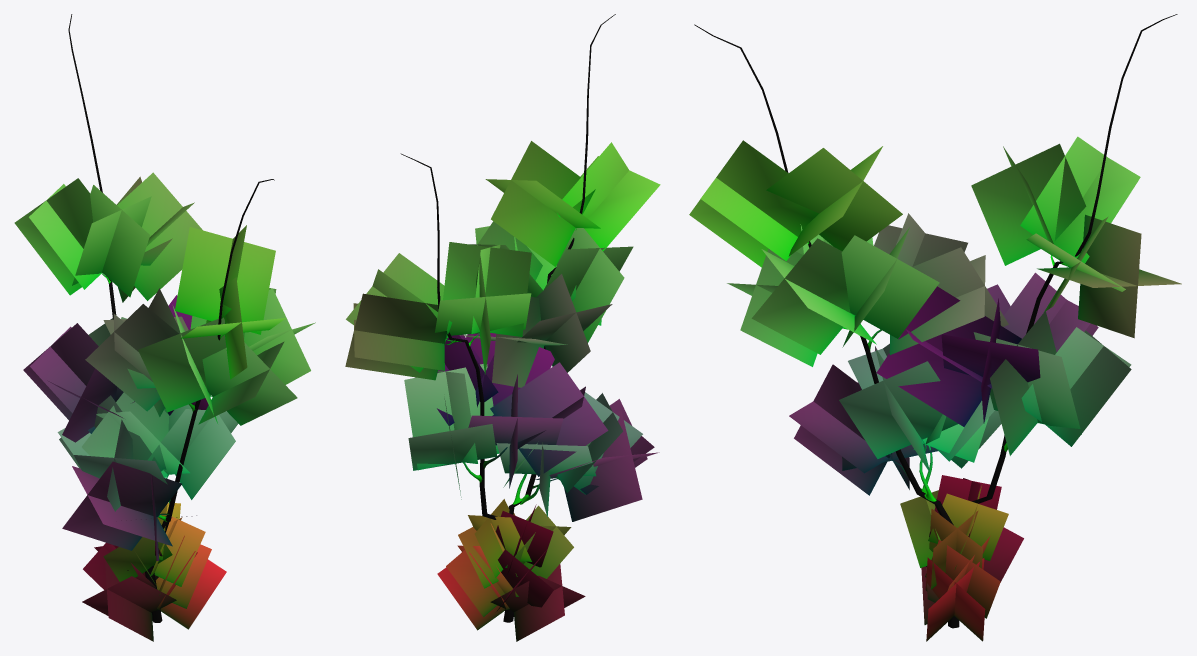
The model's file is M_P12_Tree_6.fbx.
3 views of the same model, side by side, from view 1: azimuth 30°, elevation 25°; view 2: azimuth 150°, elevation 25°; view 3: azimuth 270°, elevation 25° (orthographic). The views are drawn at different scales.
Visible parts, largest first — view 1: Tree_6; view 2: Tree_6; view 3: Tree_6.
Part boxes in pixels (x1,y1,x2,y2): Tree_6: (14,14,315,641); Tree_6: (345,14,660,641); Tree_6: (689,14,1181,641).
Size of the model in its own units: 181 by 440 by 313.
